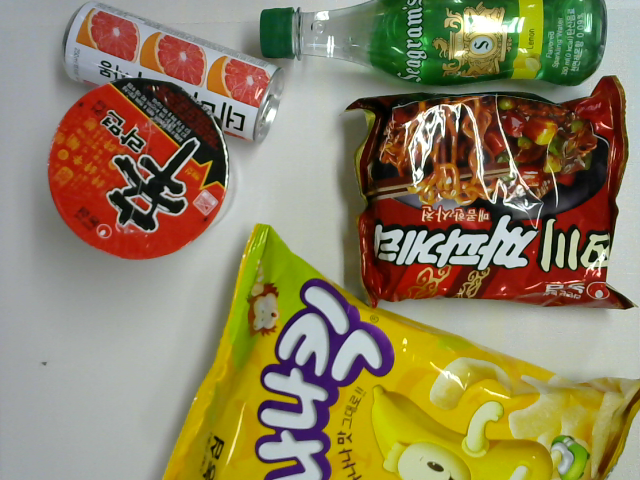Banana_Kick: (155, 220, 637, 480)
Demisoda_Grapefruit_Can_250ml: (56, 2, 287, 147)
Seagram_Lemon_Carbonated_Water: (258, 1, 616, 98)
Sichuan_Chapaghetti: (342, 77, 640, 316)
Sinramen_small: (40, 77, 244, 261)
